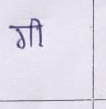i_matra: (31, 18, 44, 46)
